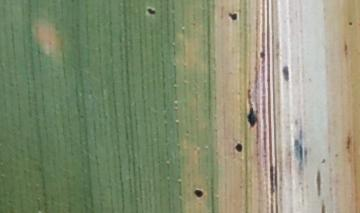tarspot: (244, 104, 261, 131), (225, 9, 241, 25), (143, 5, 161, 19), (191, 186, 206, 202), (232, 139, 244, 156), (258, 47, 268, 63), (346, 18, 355, 29)
